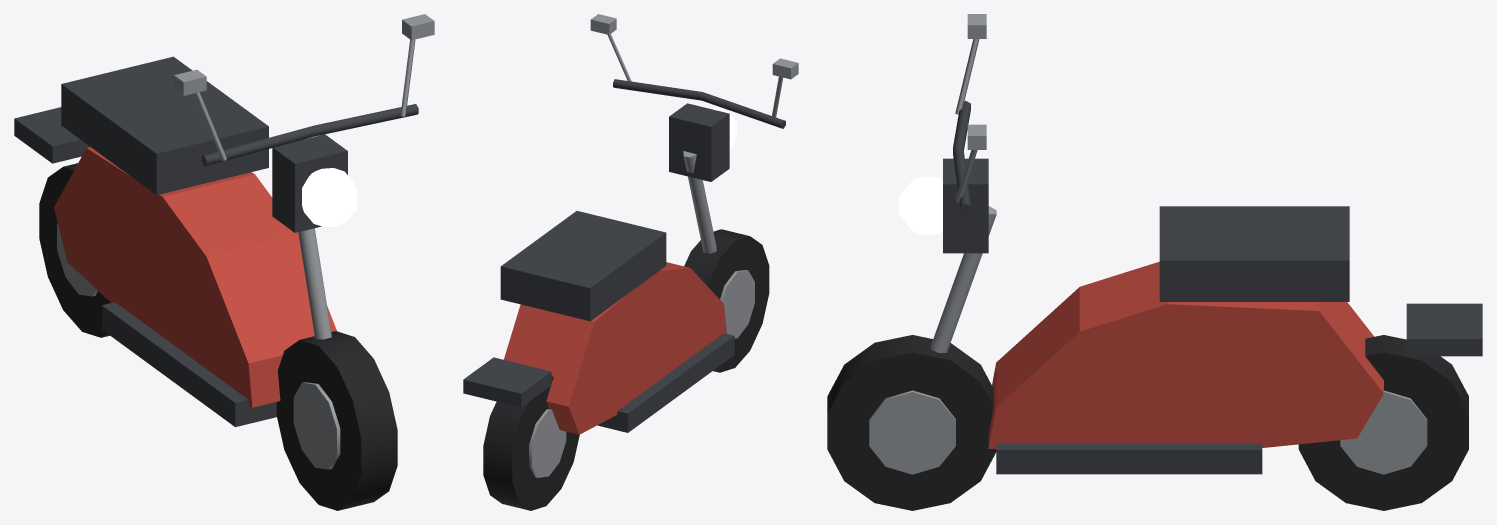
File: prop_street_scooter_b.glb
3 views of the same model, side by side, from view 1: azimuth 30°, elevation 25°; view 2: azimuth 150°, elevation 25°; view 3: azimuth 270°, elevation 25° (orthographic). The views are drawn at different scales.
Visible parts, largest first — view 1: scooter_frame, scooter_body, scooter_wheels; view 2: scooter_frame, scooter_body, scooter_wheels; view 3: scooter_body, scooter_frame, scooter_wheels.
Boxes of the visible parts, x1,y1,x2,y2 form: scooter_frame: [14, 14, 434, 426]; scooter_body: [54, 147, 336, 407]; scooter_wheels: [39, 163, 397, 510]; scooter_frame: [463, 14, 798, 432]; scooter_body: [503, 262, 726, 434]; scooter_wheels: [483, 229, 769, 510]; scooter_body: [988, 261, 1383, 448]; scooter_frame: [899, 14, 1482, 474]; scooter_wheels: [827, 335, 1468, 510].
Size of the model in its own units: 0.76 by 1.24 by 1.72.
